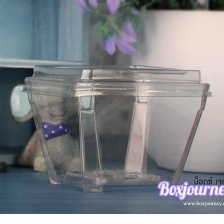glass: (19, 53, 216, 201)
